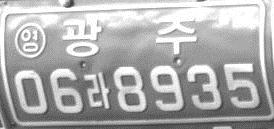0: (14, 69, 47, 114)
3: (186, 63, 221, 110)
5: (223, 62, 259, 108)
6: (49, 68, 82, 113)
8: (112, 66, 147, 112)
9: (149, 65, 184, 111)
광주_D: (61, 16, 197, 57)
라: (83, 72, 111, 109)
영: (13, 22, 46, 58)
